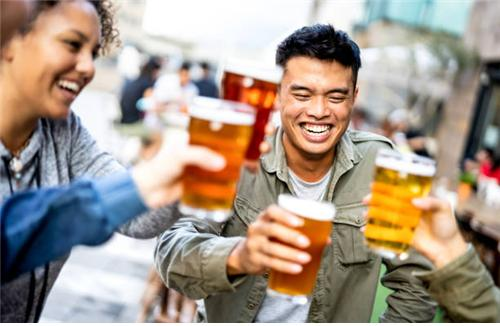alcohol: (177, 97, 256, 220), (360, 148, 436, 259), (269, 194, 332, 299)
